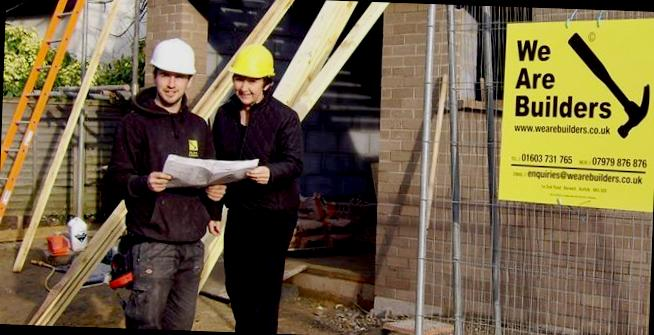helmet: (144, 31, 203, 80), (224, 35, 280, 82)
no_vest: (117, 101, 210, 245), (214, 95, 304, 218)
person: (113, 29, 230, 332), (200, 37, 312, 334)
